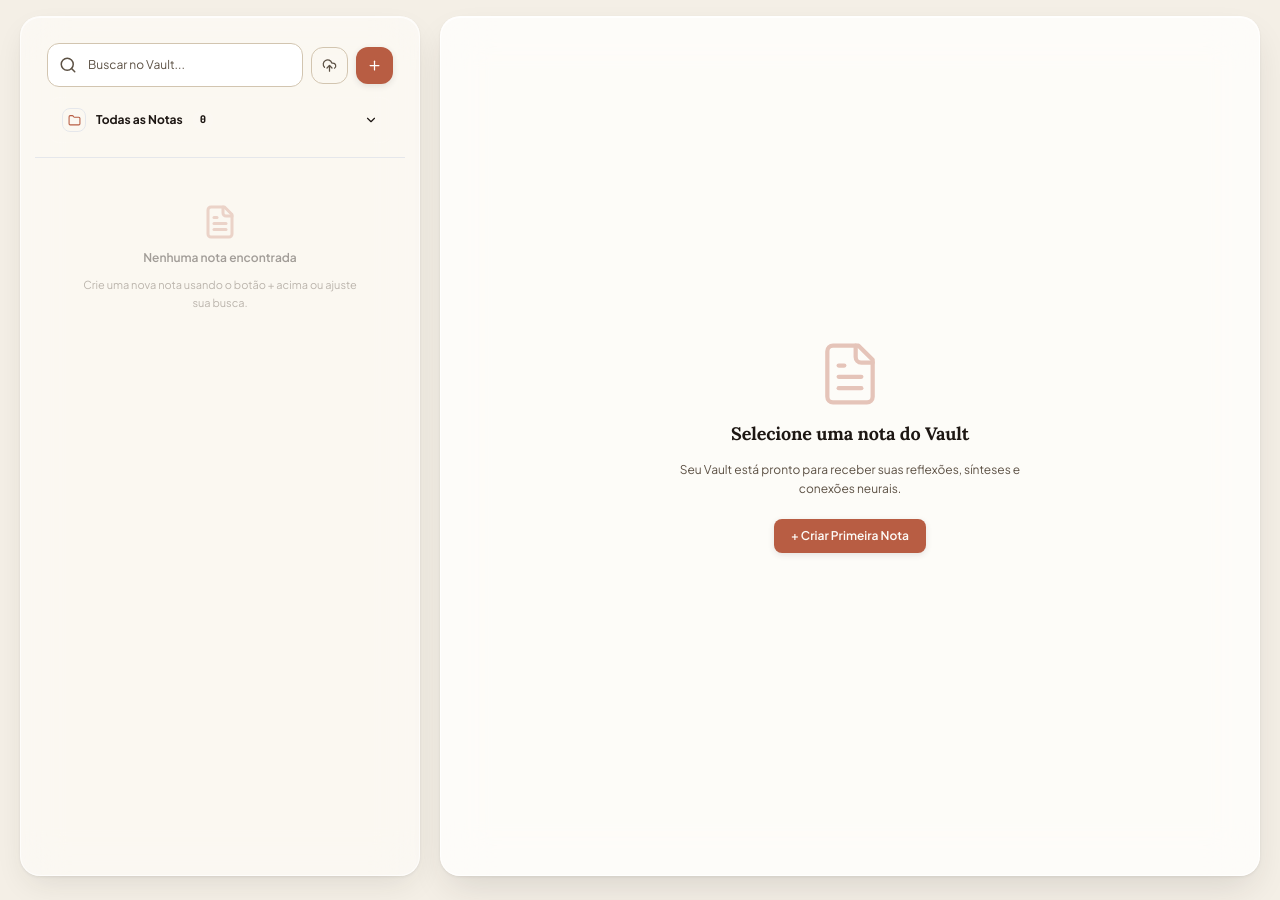
Test: Validação Comportamental de Tela (Study, Flashcards, Notas) › Fluxo 3 — Notas.jsx (Atalhos de Teclado) › dispara Ctrl+Shift+N para criar nova nota e Escape para fechar painéis
The width and height of the screenshot is (1280, 900).
Expected: the heading "Selecione uma nota do Vault" is shown, [731,420,969,448]
// Pressiona Ctrl+Shift+N globalmente
Press n
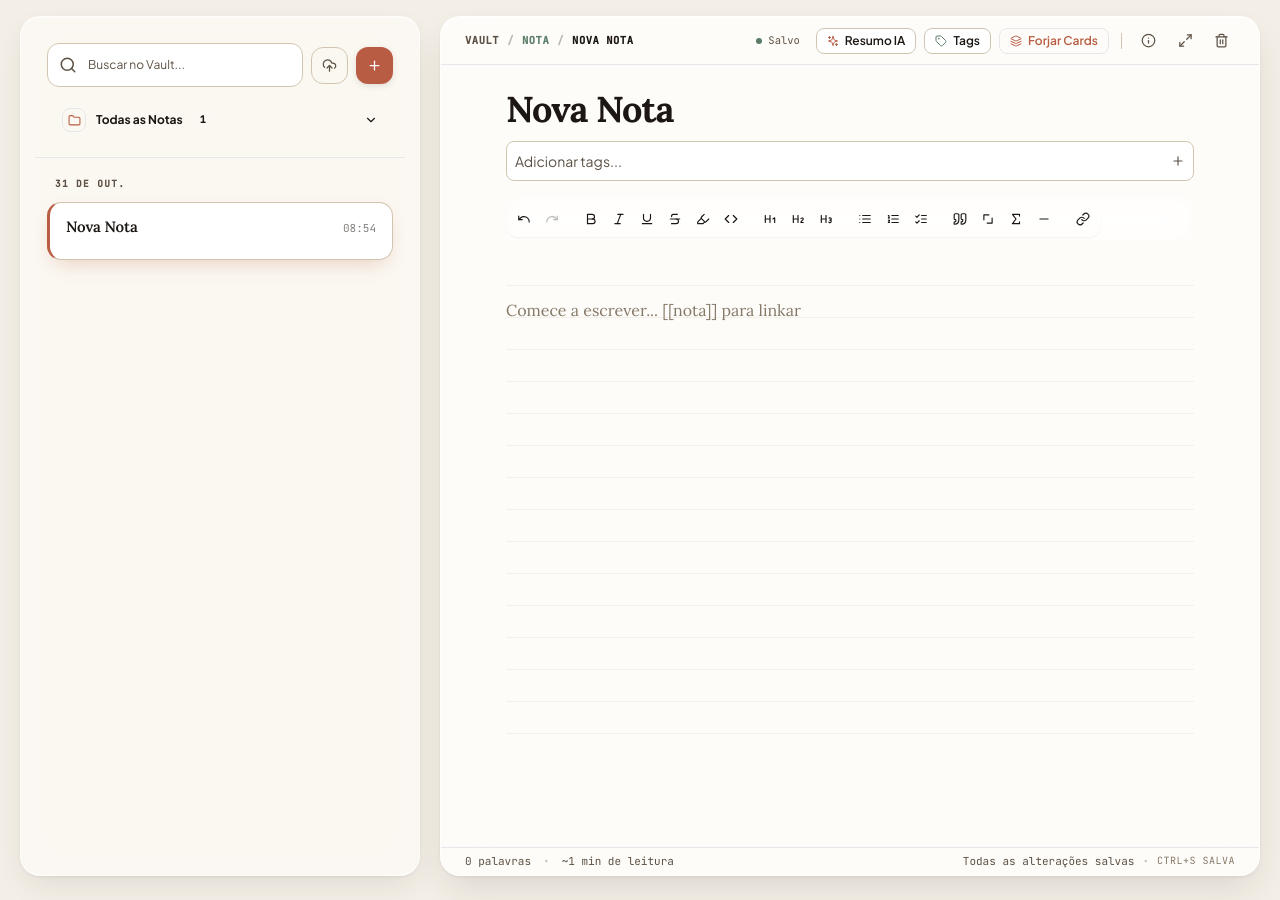
// Abre painel de Informações (Info)
Click the button "Info". click: point(1148, 40)
box: [1134,26,1163,55]
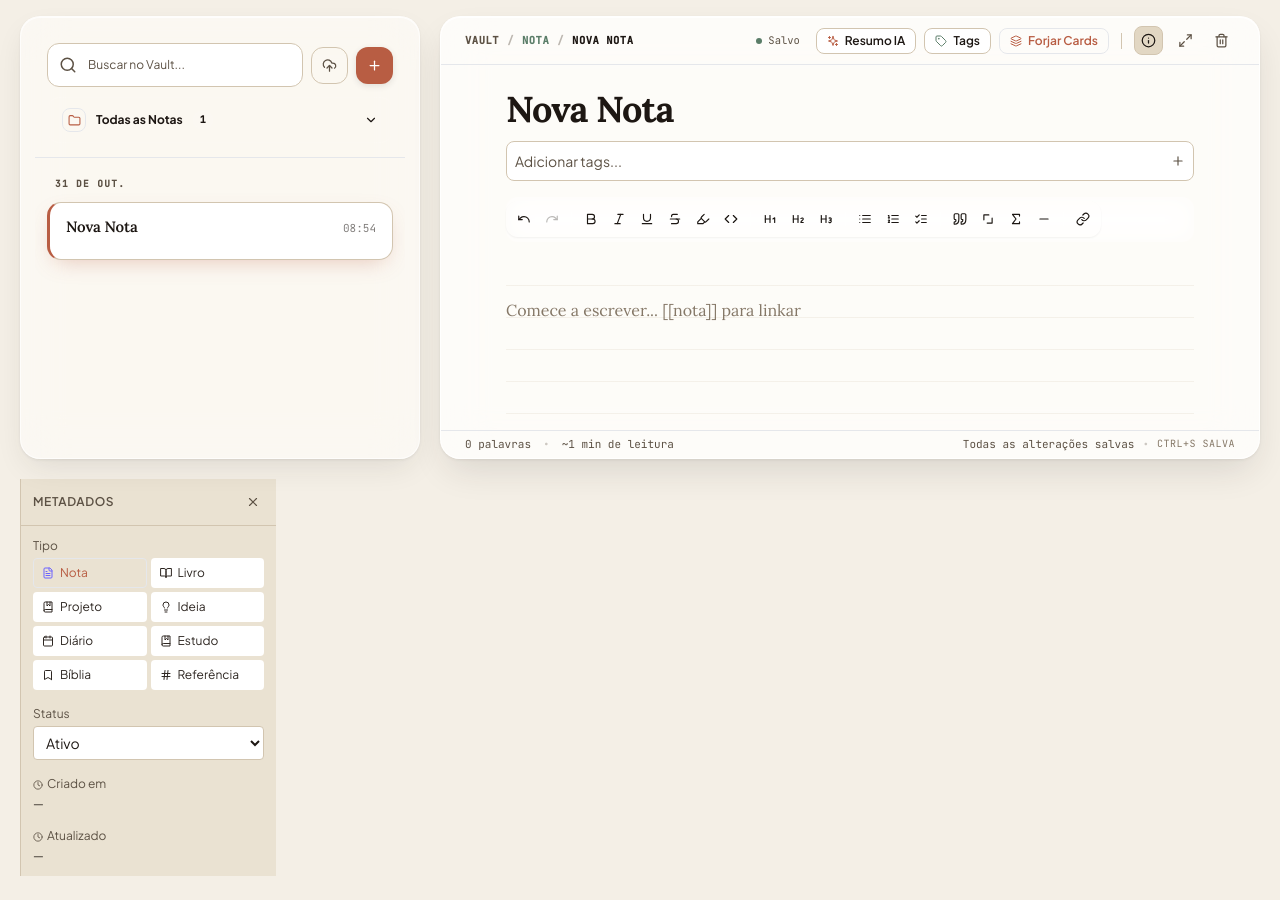
Expected: the text "Metadados" is shown, [33,494,114,510]
// Pressiona Escape globalmente: deve fechar o painel de Metadados
Press Escape
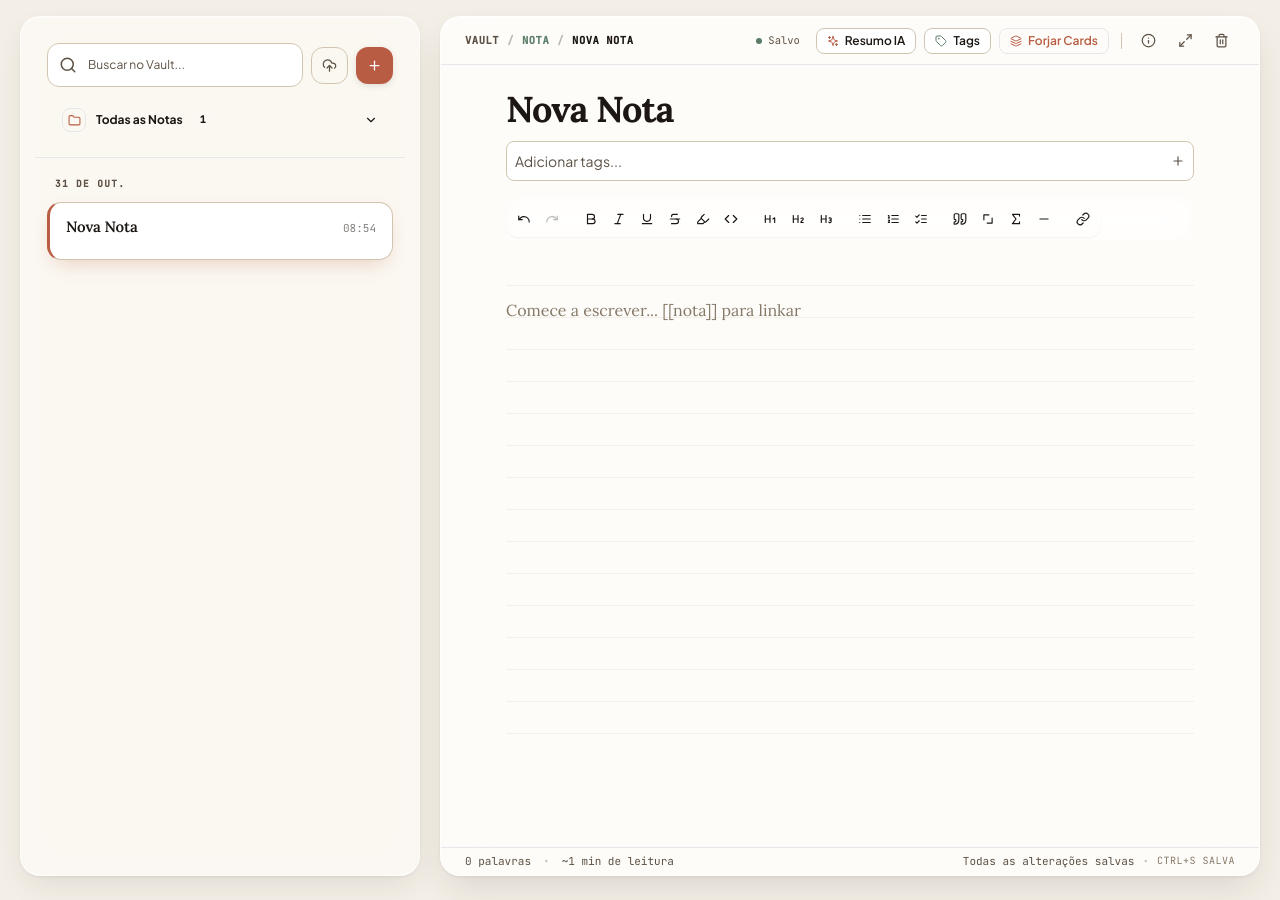
Expected: the text "Metadados" is gone
